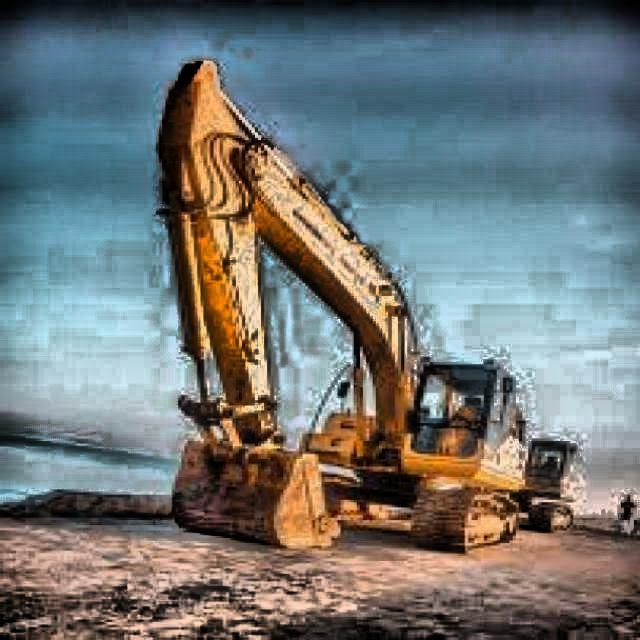bull_dozer/loader/grader: (154, 57, 530, 555), (518, 434, 576, 534)
person: (620, 488, 638, 544)
